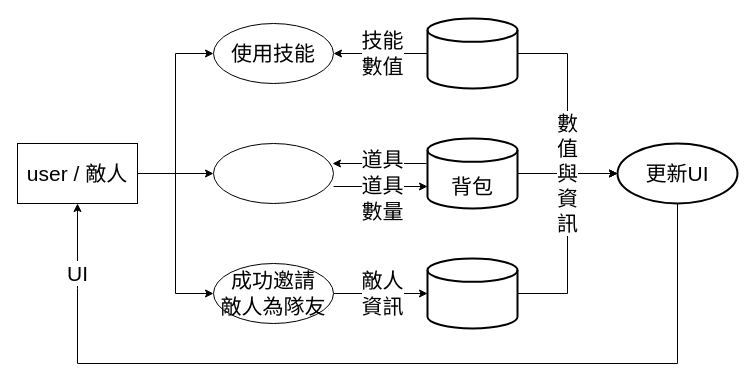
The diagram is 756 pixels wide and 382 high, and some of its shapes have lost their labels. Each missing label, with the centre of its shape:
"使用道具" goes at (273,173).
"職業技能" goes at (472,53).
"隊友" goes at (472,293).
